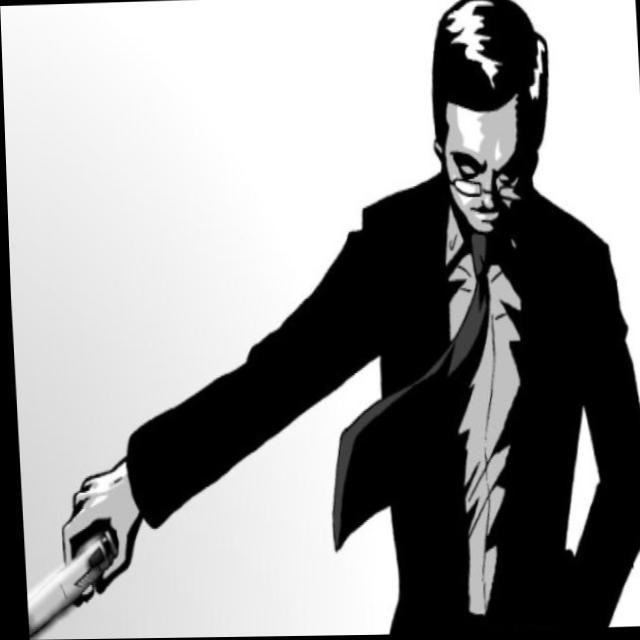weapon: (18, 537, 132, 640)
